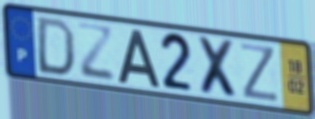2: (159, 28, 198, 99)
A: (116, 28, 162, 89)
D: (35, 15, 77, 78)
X: (195, 34, 242, 102)
Z: (239, 41, 282, 105), (75, 20, 117, 84)
